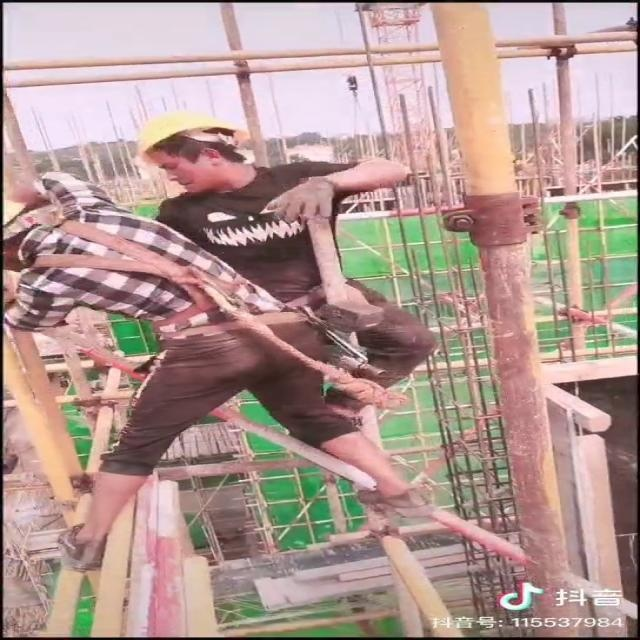Arnes_seguridad: (11, 214, 299, 351)
